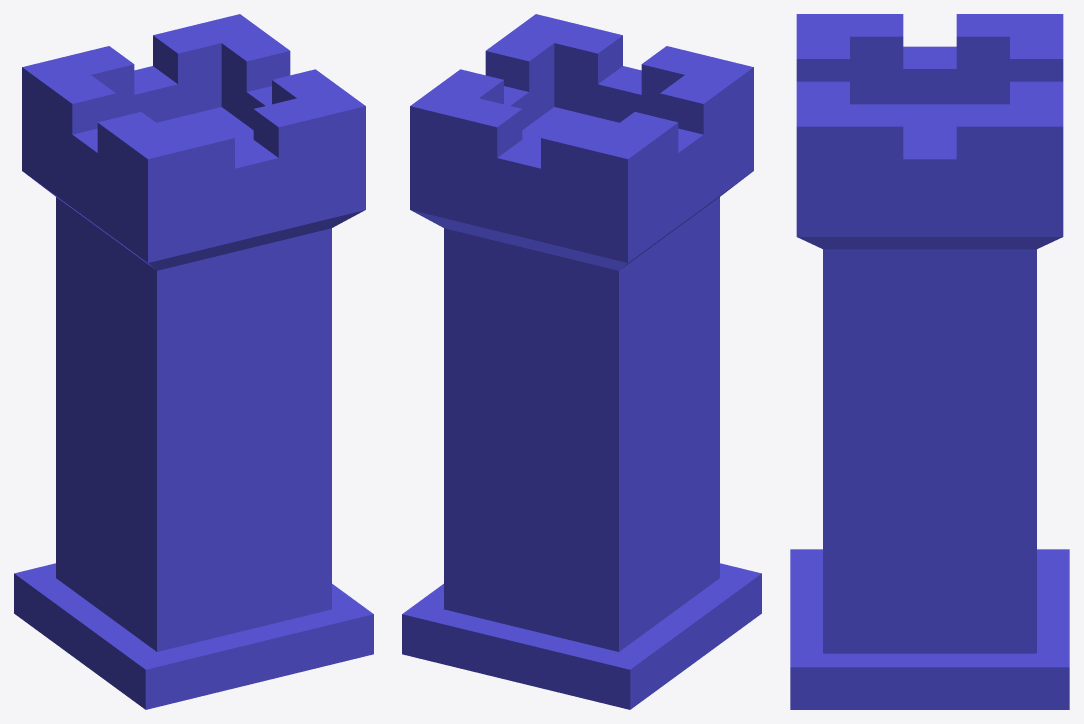
File: TowerBase.fbx
3 renders of one model, left to right at view 1: azimuth 30°, elevation 25°; view 2: azimuth 150°, elevation 25°; view 3: azimuth 270°, elevation 25°, orthographic. The views are drawn at different scales.
Parts seen in each view (by area): view 1: Cube; view 2: Cube; view 3: Cube.
Boxes of the visible parts, left/top/right/bottom form: Cube: left=14, top=14, right=373, bottom=709; Cube: left=402, top=14, right=761, bottom=709; Cube: left=790, top=14, right=1069, bottom=709.
Bounding box in the file's own units: 2 × 4.59 × 2.
